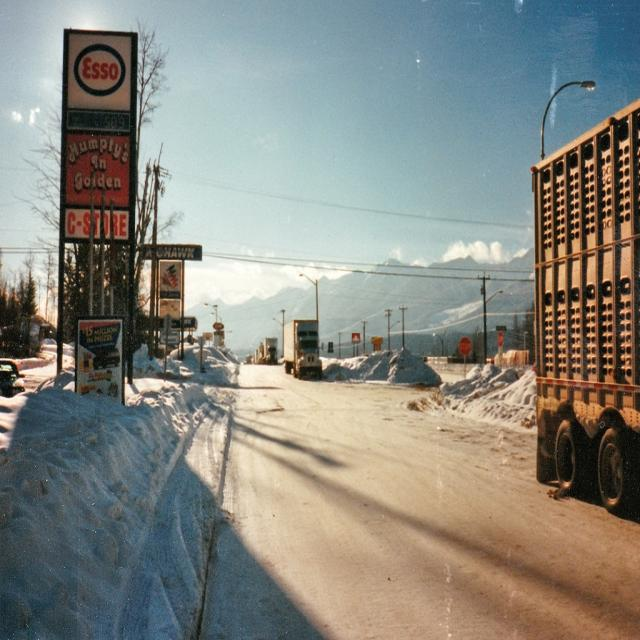esso: (72, 41, 129, 100)
